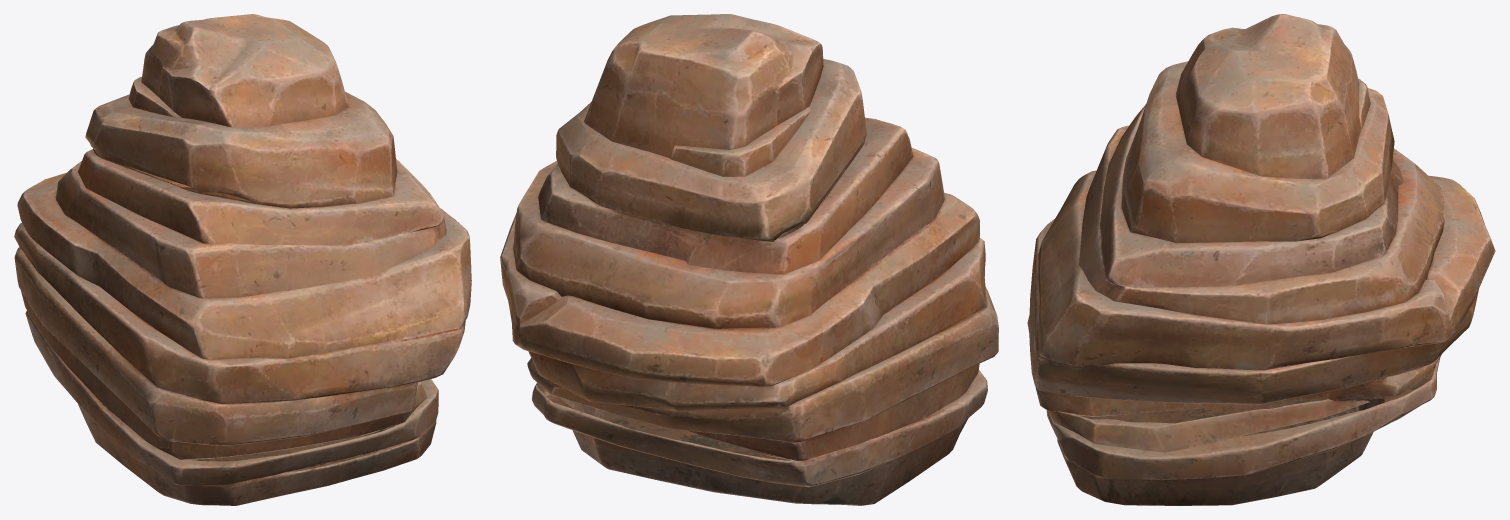
3 renders of one model, left to right at view 1: azimuth 30°, elevation 25°; view 2: azimuth 150°, elevation 25°; view 3: azimuth 270°, elevation 25°, orthographic. The views are drawn at different scales.
Visible parts, largest first — view 1: SM_Sandstone_Boulder_01_LOD0; view 2: SM_Sandstone_Boulder_01_LOD0; view 3: SM_Sandstone_Boulder_01_LOD0.
Part boxes in pixels (left/top/right/bottom): SM_Sandstone_Boulder_01_LOD0: left=14, top=14, right=471, bottom=505; SM_Sandstone_Boulder_01_LOD0: left=500, top=14, right=998, bottom=505; SM_Sandstone_Boulder_01_LOD0: left=1027, top=14, right=1495, bottom=505.
Size of the model in its own units: 1.34 by 1.5 by 1.55.
1 material, 1 textured.
